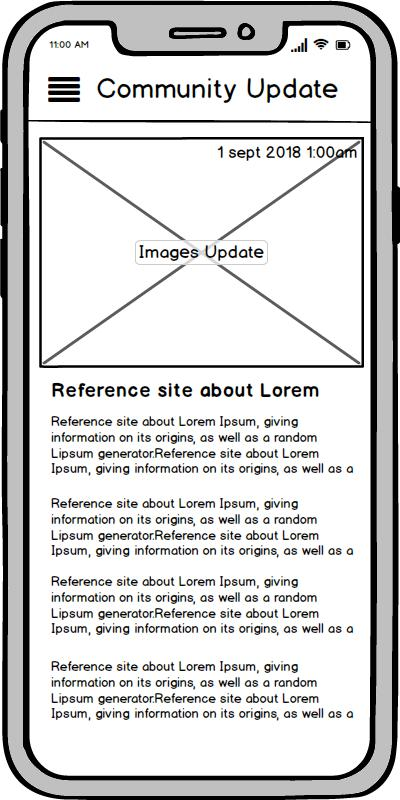Icon: (47, 75, 82, 105)
Image: (39, 137, 365, 368)
Text: (49, 659, 355, 722), (49, 414, 354, 477), (50, 496, 355, 559), (49, 574, 354, 637), (96, 77, 339, 105), (50, 381, 319, 399), (138, 243, 265, 263), (217, 144, 358, 162)
Toolbar: (30, 58, 371, 121)
